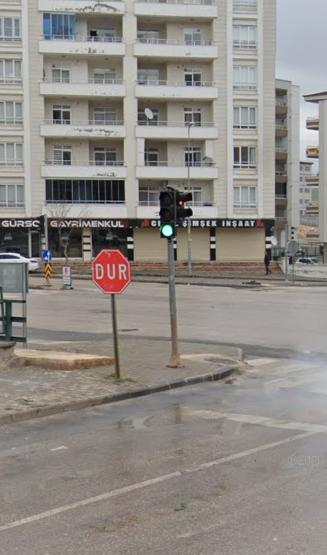greenlight: (156, 189, 178, 241)
stop: (94, 251, 132, 294)
